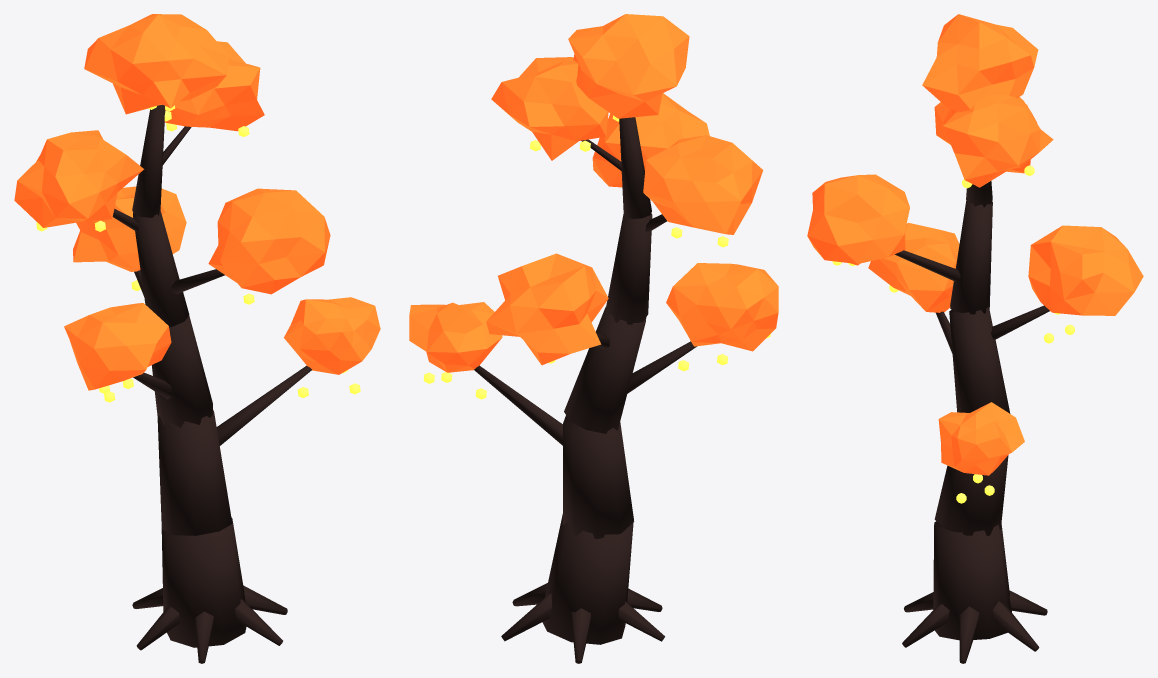
Rendered from boss_lair_tree_ember.glb.
3 views of the same model, side by side, from view 1: azimuth 30°, elevation 25°; view 2: azimuth 150°, elevation 25°; view 3: azimuth 270°, elevation 25° (orthographic). The views are drawn at different scales.
Parts seen in each view (by area): view 1: Cone; view 2: Cone; view 3: Cone.
Part boxes in pixels (bbox=[...]): Cone: bbox=[14, 14, 380, 663]; Cone: bbox=[409, 14, 778, 663]; Cone: bbox=[807, 14, 1143, 663].
Bounding box in the file's own units: 8.79 × 15.29 × 7.91.
